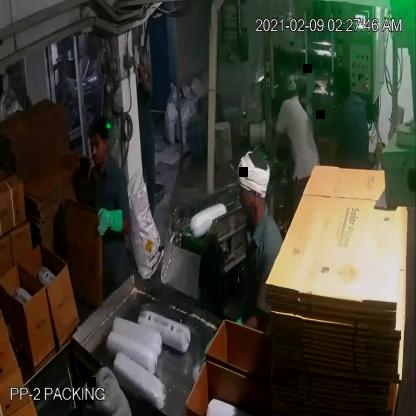glove: (94, 202, 127, 243)
no_glove: (137, 58, 151, 97), (270, 127, 282, 168)
